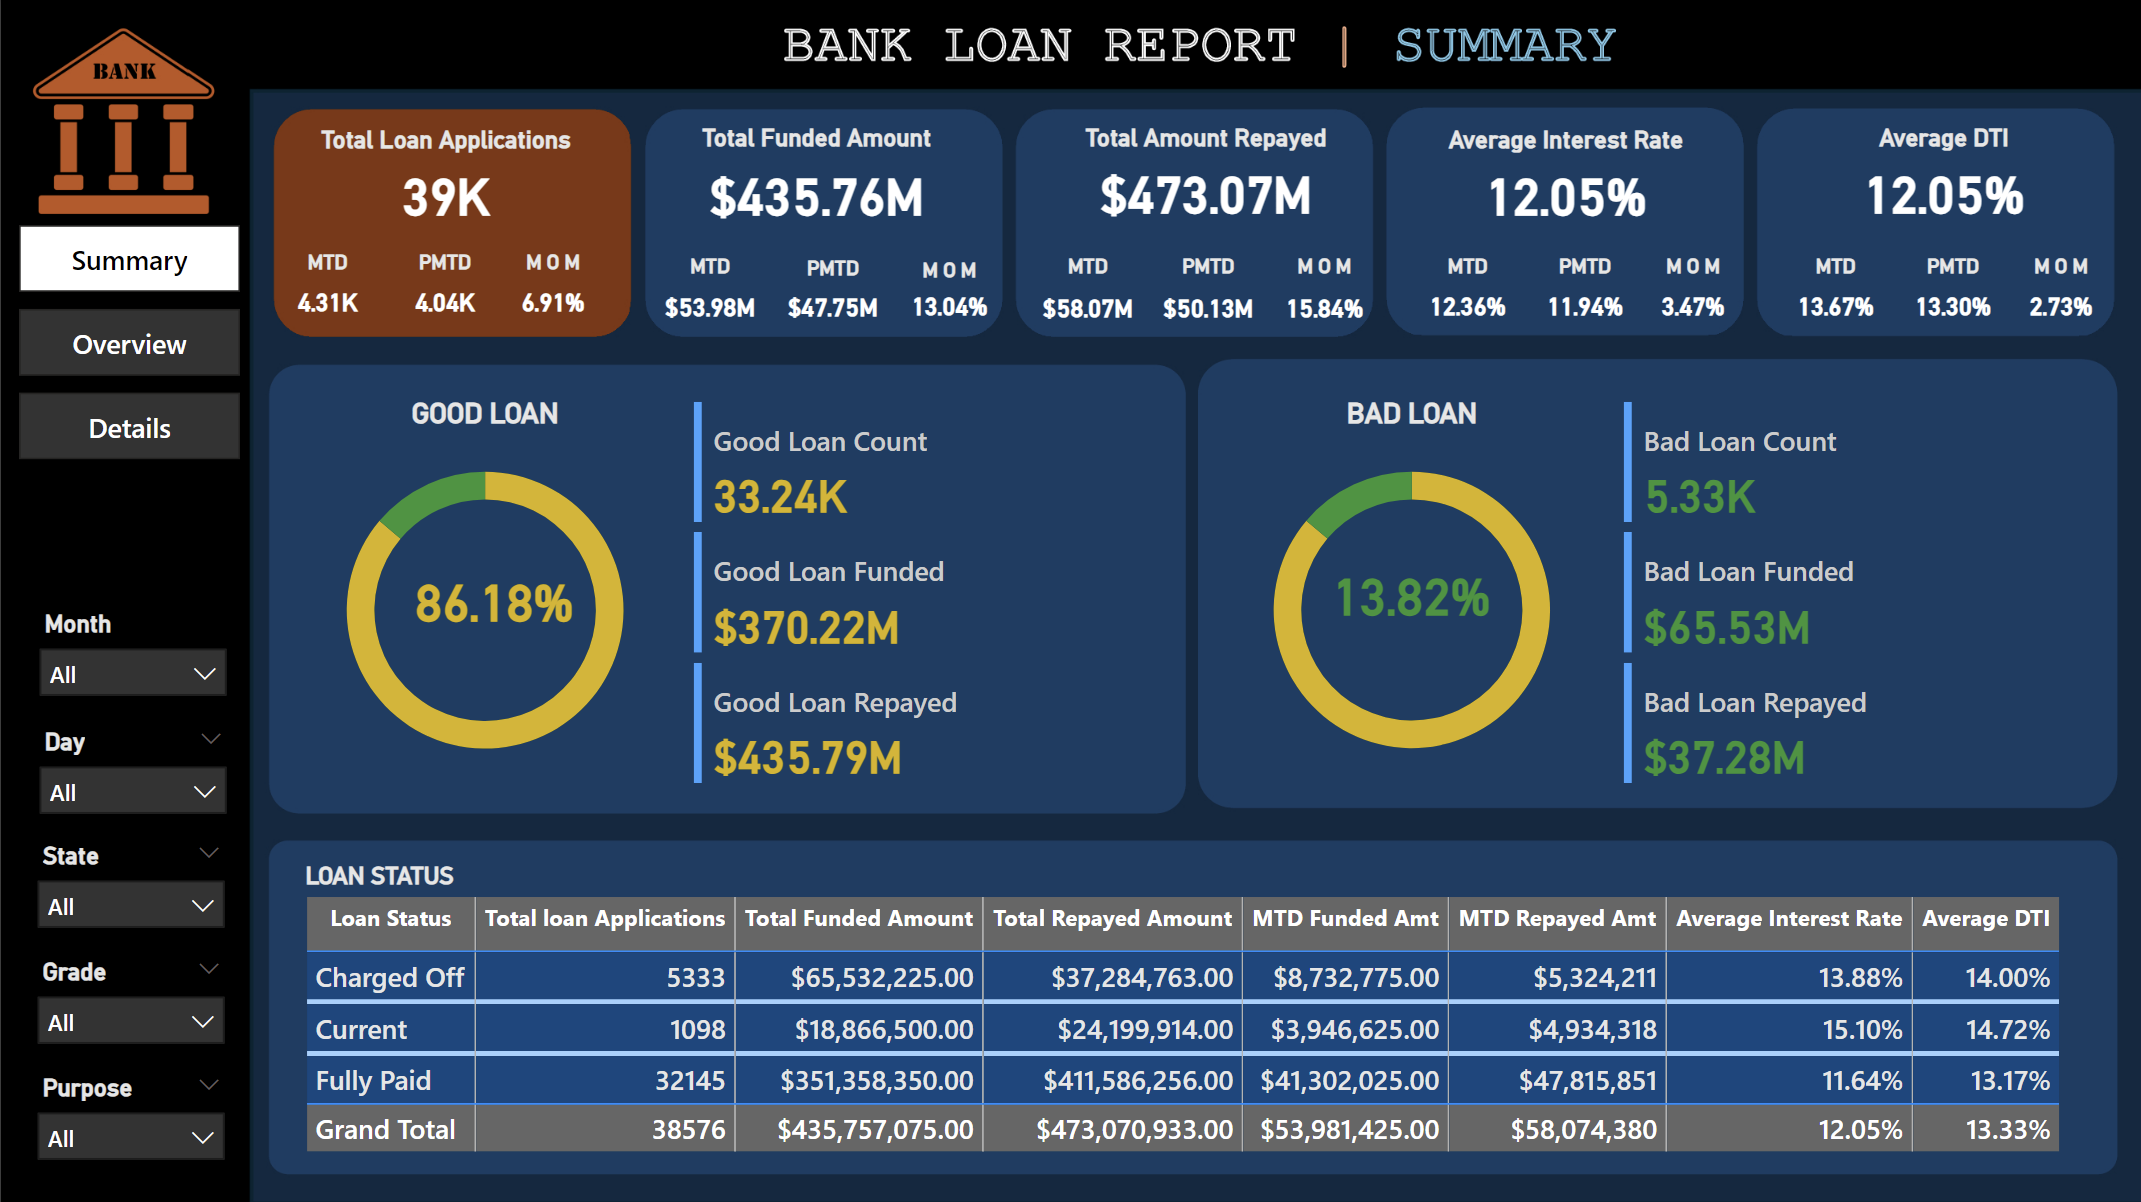

This screenshot's page, from the dashboard's own definition file:
{"tool":"tableau","page":{"name":"SUMMARY","canvas":[1600,900],"ordinal":2},"visuals":[{"type":"image","param":"/Users/arafathjazeeb/Library/CloudStorage/OneDrive-UniversityofPisa/Data Analyst","box":[8,8,1584,884]},{"type":"worksheet","title":"TRA","mark":"Automatic","box":[770,100,238,81]},{"type":"worksheet","title":"AIR","mark":"Automatic","box":[1037,101,241,77]},{"type":"worksheet","title":"DTI","mark":"Automatic","box":[1307,101,241,72]},{"type":"worksheet","title":"TFA","mark":"Automatic","box":[498,102,241,83]},{"type":"worksheet","title":"TLA","mark":"Automatic","box":[229,103,242,82]},{"type":"text","box":[1328,184,33,30]},{"type":"text","box":[1409,184,39,30]},{"type":"text","box":[1483,184,39,30]},{"type":"text","box":[252,185,33,30]},{"type":"text","box":[333,185,39,30]},{"type":"text","box":[410,185,39,30]},{"type":"text","box":[1065,185,33,30]},{"type":"text","box":[1141,185,39,30]},{"type":"text","box":[1215,185,39,30]},{"type":"text","box":[795,186,33,30]},{"type":"text","box":[869,186,39,30]},{"type":"text","box":[946,186,39,30]},{"type":"text","box":[524,188,33,30]},{"type":"text","box":[601,188,39,30]},{"type":"text","box":[675,188,39,30]},{"type":"worksheet","title":"MTD_AIR","mark":"Automatic","box":[1043,203,77,53]},{"type":"worksheet","title":"PMTD_TLA","mark":"Automatic","box":[310,207,86,43]},{"type":"worksheet","title":"MTD_TFA","mark":"Automatic","box":[501,207,75,46]},{"type":"worksheet","title":"MTD_TRA","mark":"Automatic","box":[768,208,84,43]},{"type":"worksheet","title":"PMTD_AIR","mark":"Automatic","box":[1121,208,84,44]},{"type":"worksheet","title":"PMTD_DTI","mark":"Automatic","box":[1390,208,82,39]},{"type":"dashboard-object","box":[31,209,164,52]},{"type":"worksheet","title":"MOM_TFA","mark":"Automatic","box":[654,209,87,41]},{"type":"worksheet","title":"MTD_DTI","mark":"Automatic","box":[1309,209,73,39]},{"type":"worksheet","title":"PMTD_TFA","mark":"Automatic","box":[581,210,81,39]},{"type":"worksheet","title":"MOM_DTI","mark":"Automatic","box":[1472,210,70,34]},{"type":"worksheet","title":"MTD_TLA","mark":"Automatic","box":[229,211,71,33]},{"type":"worksheet","title":"PMTD_TRA","mark":"Automatic","box":[853,211,76,38]},{"type":"worksheet","title":"MOM_TRA","mark":"Automatic","box":[926,211,79,38]},{"type":"worksheet","title":"MOM_AIR","mark":"Automatic","box":[1197,211,86,36]},{"type":"worksheet","title":"MOM_TLA","mark":"Automatic","box":[392,212,68,32]},{"type":"dashboard-object","box":[30,274,164,52]},{"type":"worksheet","title":"Bad Loan Issued","mark":"Pie","rows":["Calculation_5259571078684729375","Calculation_5259571078684729375"],"box":[911,286,311,306]},{"type":"worksheet","title":"Good Loan Issued","mark":"Pie","rows":["Calculation_5259571078684729375","Calculation_5259571078684729375"],"box":[233,291,311,306]},{"type":"worksheet","title":"Bad Loan Count","mark":"Automatic","box":[1238,315,311,80]},{"type":"worksheet","title":"Good Loan Count","mark":"Automatic","box":[559,318,311,80]},{"type":"dashboard-object","box":[29,339,164,52]},{"type":"worksheet","title":"Bad Loan Funded","mark":"Automatic","box":[1238,409,311,80]},{"type":"worksheet","title":"Good Loan Funded","mark":"Automatic","box":[557,413,311,80]},{"type":"worksheet","title":"Bad Loan %","mark":"Automatic","box":[982,422,173,69]},{"type":"worksheet","title":"Good Loan %","mark":"Automatic","box":[312,428,155,67]},{"type":"worksheet","title":"Bad Loan Repaid","mark":"Automatic","box":[1239,502,311,80]},{"type":"worksheet","title":"Good Loan Repaid","mark":"Automatic","box":[557,506,311,80]},{"type":"filter","title":"Good Loan Issued","param":"[federated.19laxnm011tjax19or1he1sgg5cj].[none:verification_status:nk]","box":[34,617,160,58]},{"type":"worksheet","title":"LOAN STATUS","mark":"Automatic","rows":["loan_status"],"box":[227,636,1324,222]},{"type":"filter","title":"Good Loan Issued","param":"[federated.19laxnm011tjax19or1he1sgg5cj].[none:address_state:nk]","box":[34,675,160,54]},{"type":"filter","title":"Good Loan Issued","param":"[federated.19laxnm011tjax19or1he1sgg5cj].[none:grade:nk]","box":[33,736,160,49]},{"type":"filter","title":"Good Loan Issued","param":"[federated.19laxnm011tjax19or1he1sgg5cj].[none:purpose:nk]","box":[32,795,160,60]}]}

Visuals, with their boxes in screenshot pixels (x1, y1, x2, y2), scaled from the page's 1600x900 canvas onto the 2141x1202 screenshot:
image: BBox(11, 11, 2130, 1191)
"TRA" worksheet: BBox(1030, 134, 1349, 242)
"AIR" worksheet: BBox(1388, 135, 1710, 238)
"DTI" worksheet: BBox(1749, 135, 2071, 231)
"TFA" worksheet: BBox(666, 136, 989, 247)
"TLA" worksheet: BBox(306, 138, 630, 247)
text: BBox(1777, 246, 1821, 286)
text: BBox(1885, 246, 1938, 286)
text: BBox(1984, 246, 2037, 286)
text: BBox(337, 247, 381, 287)
text: BBox(446, 247, 498, 287)
text: BBox(549, 247, 601, 287)
text: BBox(1425, 247, 1469, 287)
text: BBox(1527, 247, 1579, 287)
text: BBox(1626, 247, 1678, 287)
text: BBox(1064, 248, 1108, 288)
text: BBox(1163, 248, 1215, 288)
text: BBox(1266, 248, 1318, 288)
text: BBox(701, 251, 745, 291)
text: BBox(804, 251, 856, 291)
text: BBox(903, 251, 955, 291)
"MTD_AIR" worksheet: BBox(1396, 271, 1499, 342)
"PMTD_TLA" worksheet: BBox(415, 276, 530, 334)
"MTD_TFA" worksheet: BBox(670, 276, 771, 338)
"MTD_TRA" worksheet: BBox(1028, 278, 1140, 335)
"PMTD_AIR" worksheet: BBox(1500, 278, 1612, 337)
"PMTD_DTI" worksheet: BBox(1860, 278, 1970, 330)
dashboard-object: BBox(41, 279, 261, 349)
"MOM_TFA" worksheet: BBox(875, 279, 992, 334)
"MTD_DTI" worksheet: BBox(1752, 279, 1849, 331)
"PMTD_TFA" worksheet: BBox(777, 280, 886, 333)
"MOM_DTI" worksheet: BBox(1970, 280, 2063, 326)
"MTD_TLA" worksheet: BBox(306, 282, 401, 326)
"PMTD_TRA" worksheet: BBox(1141, 282, 1243, 333)
"MOM_TRA" worksheet: BBox(1239, 282, 1345, 333)
"MOM_AIR" worksheet: BBox(1602, 282, 1717, 330)
"MOM_TLA" worksheet: BBox(525, 283, 616, 326)
dashboard-object: BBox(40, 366, 260, 435)
"Bad Loan Issued" worksheet (Pie marks): BBox(1219, 382, 1635, 791)
"Good Loan Issued" worksheet (Pie marks): BBox(312, 389, 728, 797)
"Bad Loan Count" worksheet: BBox(1657, 421, 2073, 528)
"Good Loan Count" worksheet: BBox(748, 425, 1164, 532)
dashboard-object: BBox(39, 453, 258, 522)
"Bad Loan Funded" worksheet: BBox(1657, 546, 2073, 653)
"Good Loan Funded" worksheet: BBox(745, 552, 1161, 658)
"Bad Loan %" worksheet: BBox(1314, 564, 1546, 656)
"Good Loan %" worksheet: BBox(417, 572, 625, 661)
"Bad Loan Repaid" worksheet: BBox(1658, 670, 2074, 777)
"Good Loan Repaid" worksheet: BBox(745, 676, 1161, 783)
"Good Loan Issued" filter: BBox(45, 824, 260, 902)
"LOAN STATUS" worksheet: BBox(304, 849, 2075, 1146)
"Good Loan Issued" filter: BBox(45, 902, 260, 974)
"Good Loan Issued" filter: BBox(44, 983, 258, 1048)
"Good Loan Issued" filter: BBox(43, 1062, 257, 1142)
